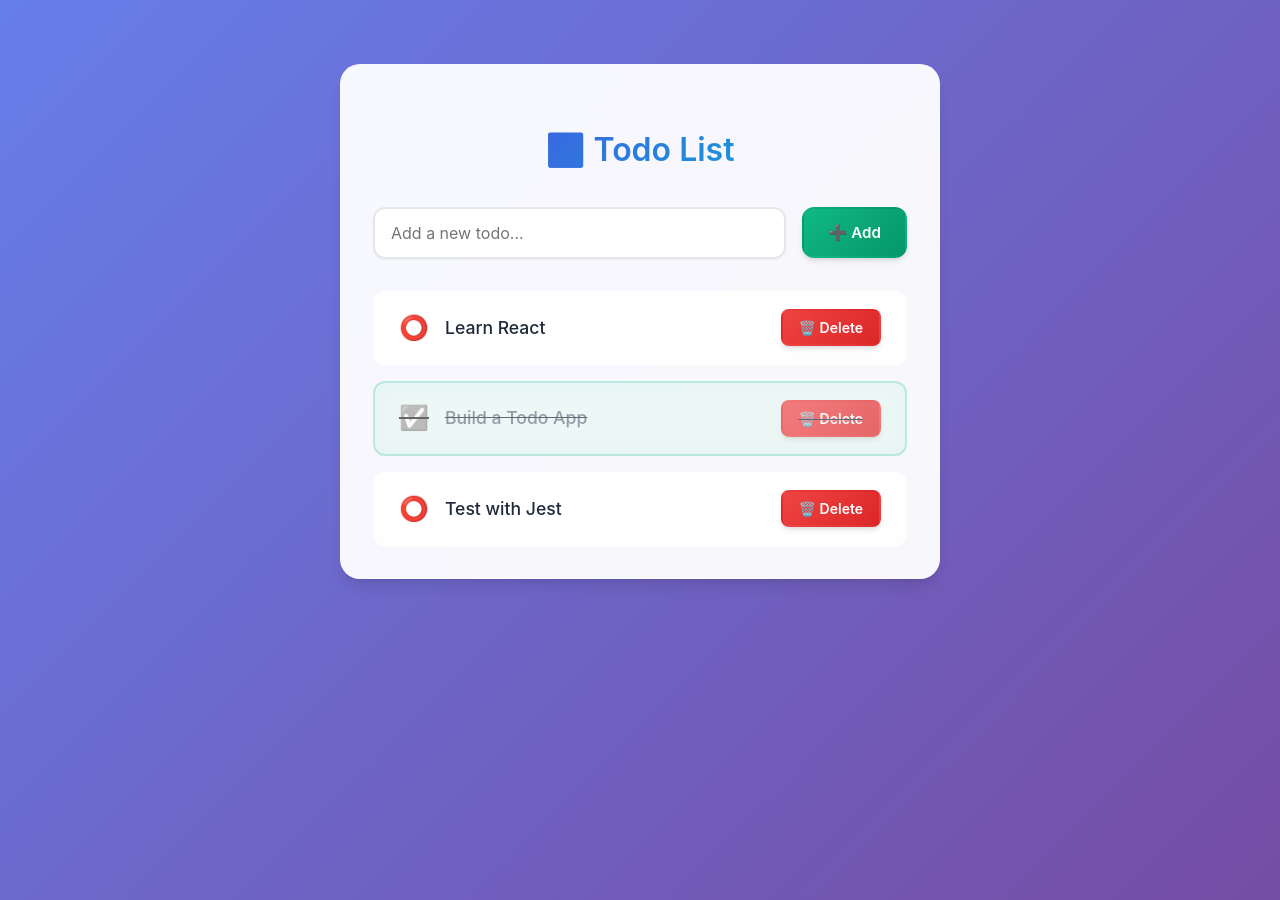
Test: TodoList Component › adds a new todo
The width and height of the screenshot is (1280, 900).
Type "New Todo" into the field with test id "todo-input" at (580, 233), box 373,207 -> 786,259
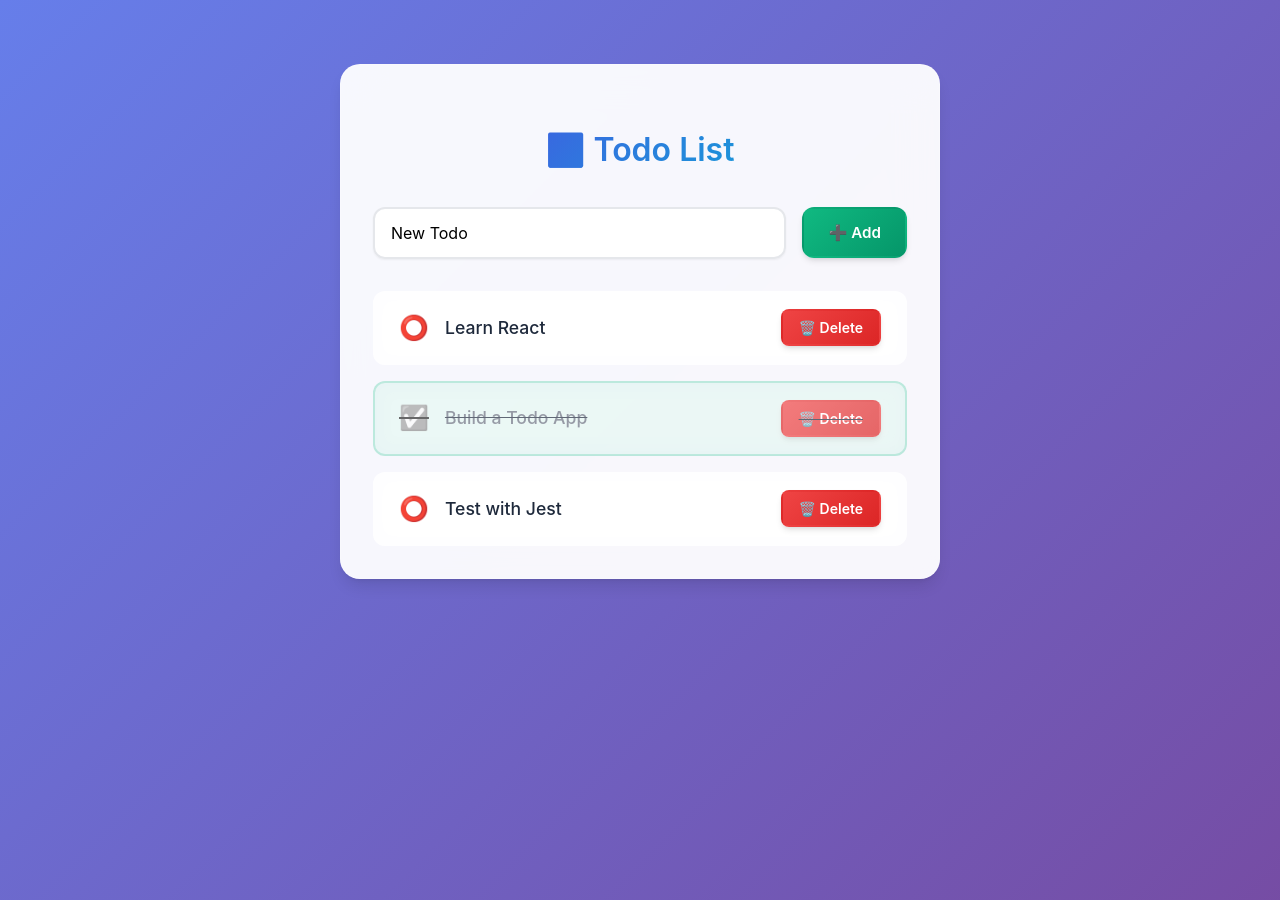
Submit the form with test id "add-todo-form", box 373,207 -> 907,259
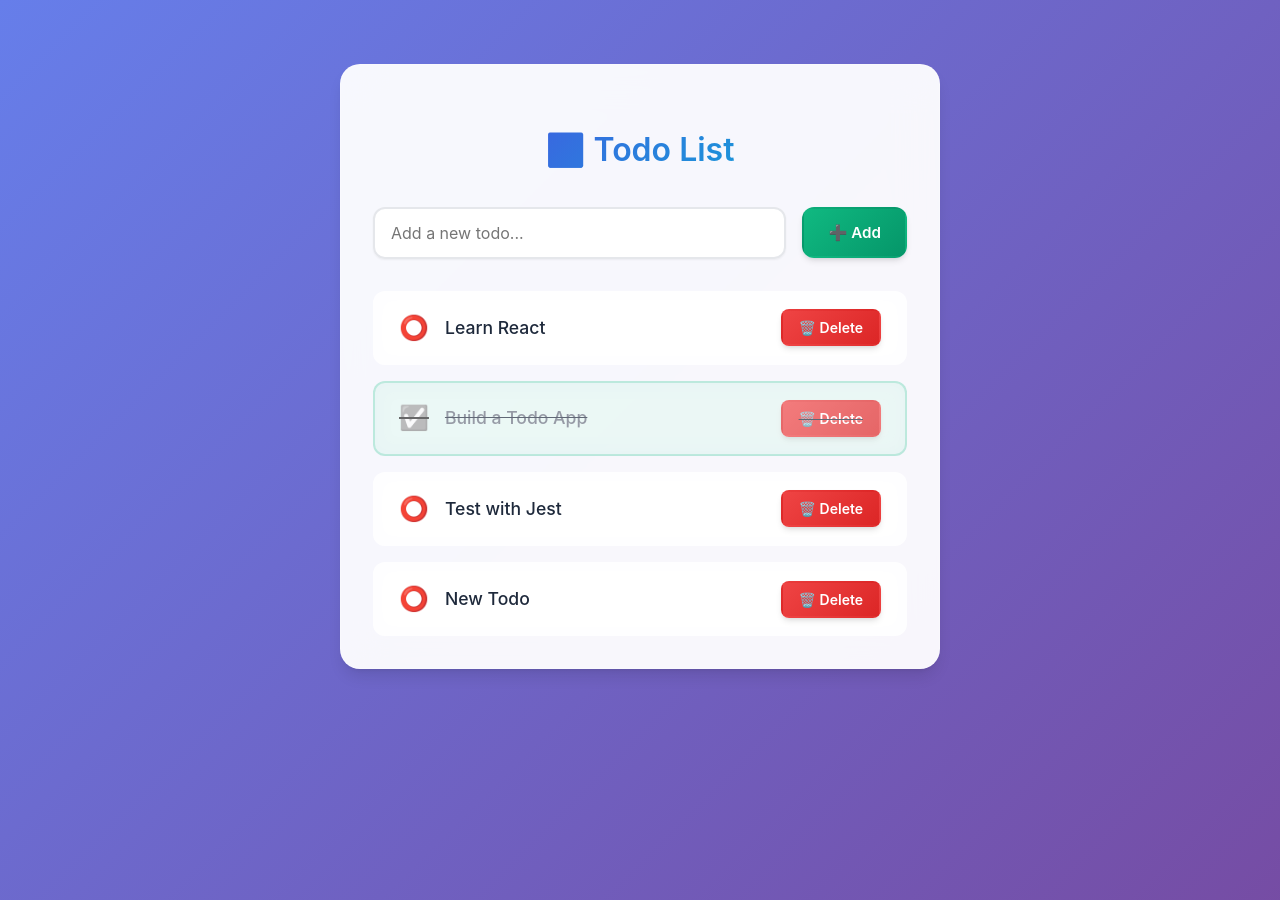
Now the text "New Todo" is shown, box 445,585 -> 530,613
